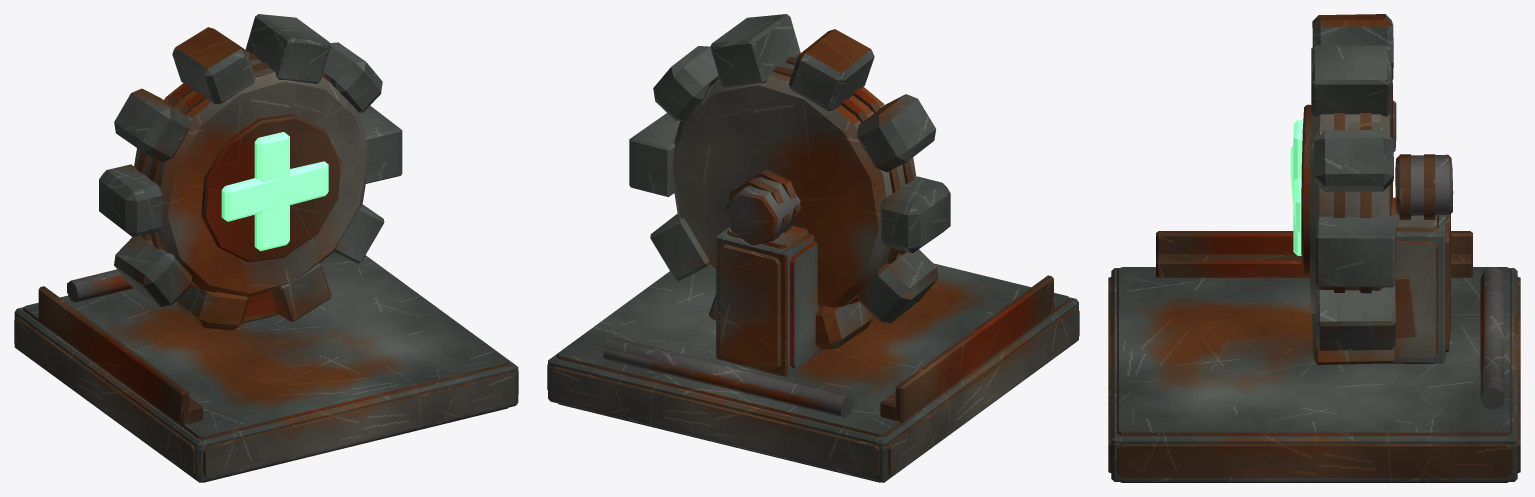
File: R4X_RepairBooster.glb
3 views of the same model, side by side, from view 1: azimuth 30°, elevation 25°; view 2: azimuth 150°, elevation 25°; view 3: azimuth 270°, elevation 25° (orthographic). The views are drawn at different scales.
Visible parts, largest first — view 1: R4X_RepairBooster_Body; view 2: R4X_RepairBooster_Body; view 3: R4X_RepairBooster_Body.
Part boxes in pixels (<box>): R4X_RepairBooster_Body: <box>14,14,518,482</box>; R4X_RepairBooster_Body: <box>547,14,1079,482</box>; R4X_RepairBooster_Body: <box>1108,14,1520,482</box>.
Size of the model in its own units: 0.52 by 0.5121 by 0.52.
Materials: 5 (4 with a texture image).
